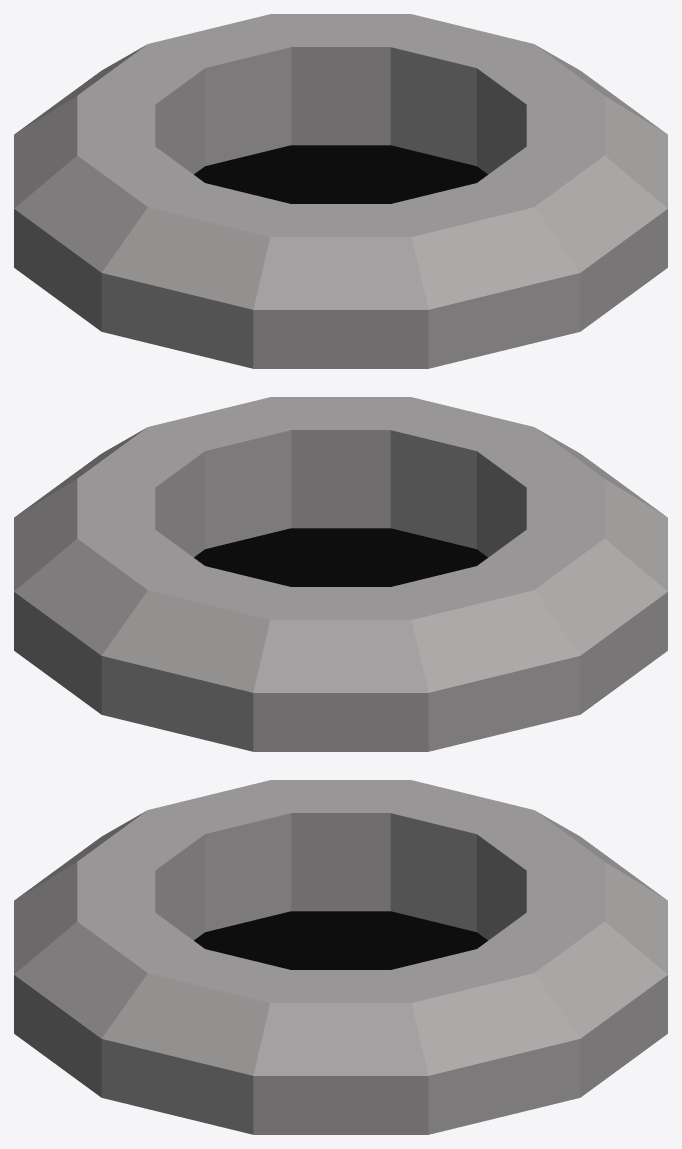
Rendered from FloorSoloRail.fbx.
3 views of the same model, one above another, from view 1: azimuth 30°, elevation 25°; view 2: azimuth 150°, elevation 25°; view 3: azimuth 270°, elevation 25° (orthographic).
Parts seen in each view (by area): view 1: FloorSoloRail; view 2: FloorSoloRail; view 3: FloorSoloRail.
Part boxes in pixels (x1=…): FloorSoloRail: x1=14, y1=14, x2=667, y2=368; FloorSoloRail: x1=14, y1=397, x2=667, y2=751; FloorSoloRail: x1=14, y1=780, x2=667, y2=1134.
Size of the model in its own units: 39.17 by 6.94 by 39.17.
